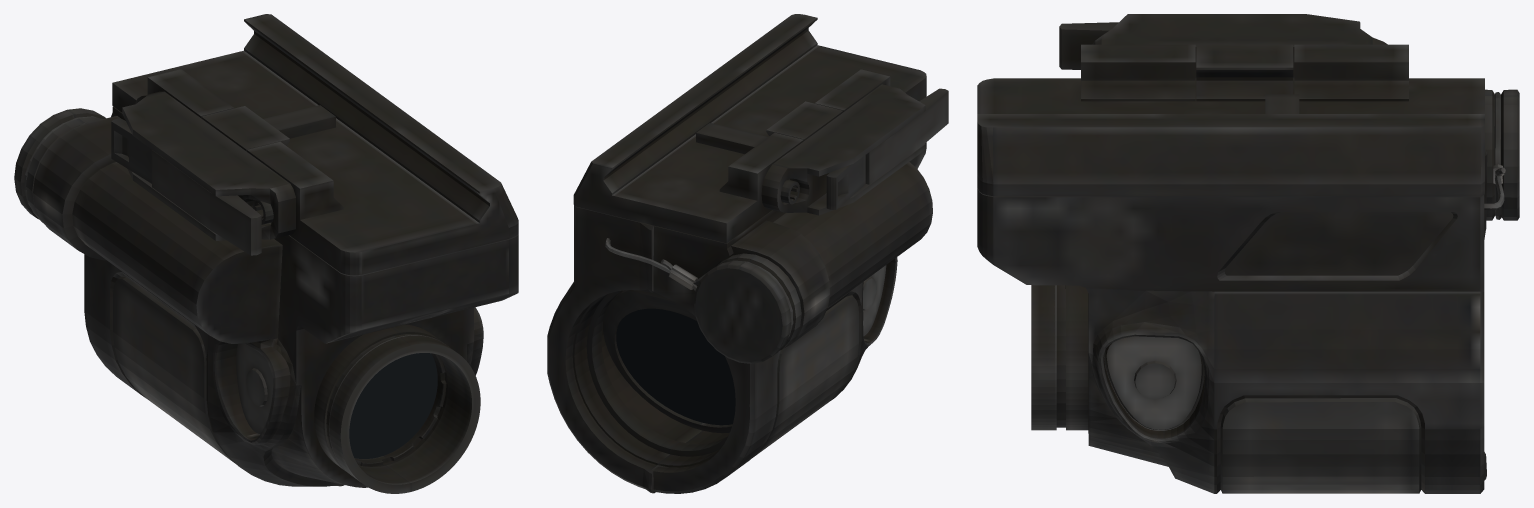
The picture shows the model from 3 angles, left to right: view 1: azimuth 30°, elevation 25°; view 2: azimuth 150°, elevation 25°; view 3: azimuth 270°, elevation 25°; orthographic projection. The views are drawn at different scales.
Visible parts, largest first — view 1: TW_5d2da1e948f035477b1ce2ba_PZ_Import; view 2: TW_5d2da1e948f035477b1ce2ba_PZ_Import; view 3: TW_5d2da1e948f035477b1ce2ba_PZ_Import.
Boxes of the visible parts, x1,y1,x2,y2 form: TW_5d2da1e948f035477b1ce2ba_PZ_Import: (14,14,518,493); TW_5d2da1e948f035477b1ce2ba_PZ_Import: (547,14,948,493); TW_5d2da1e948f035477b1ce2ba_PZ_Import: (977,14,1519,493).
Size of the model in its own units: 0.0329 by 0.0491 by 0.0391.
Materials: 1 (1 with a texture image).
